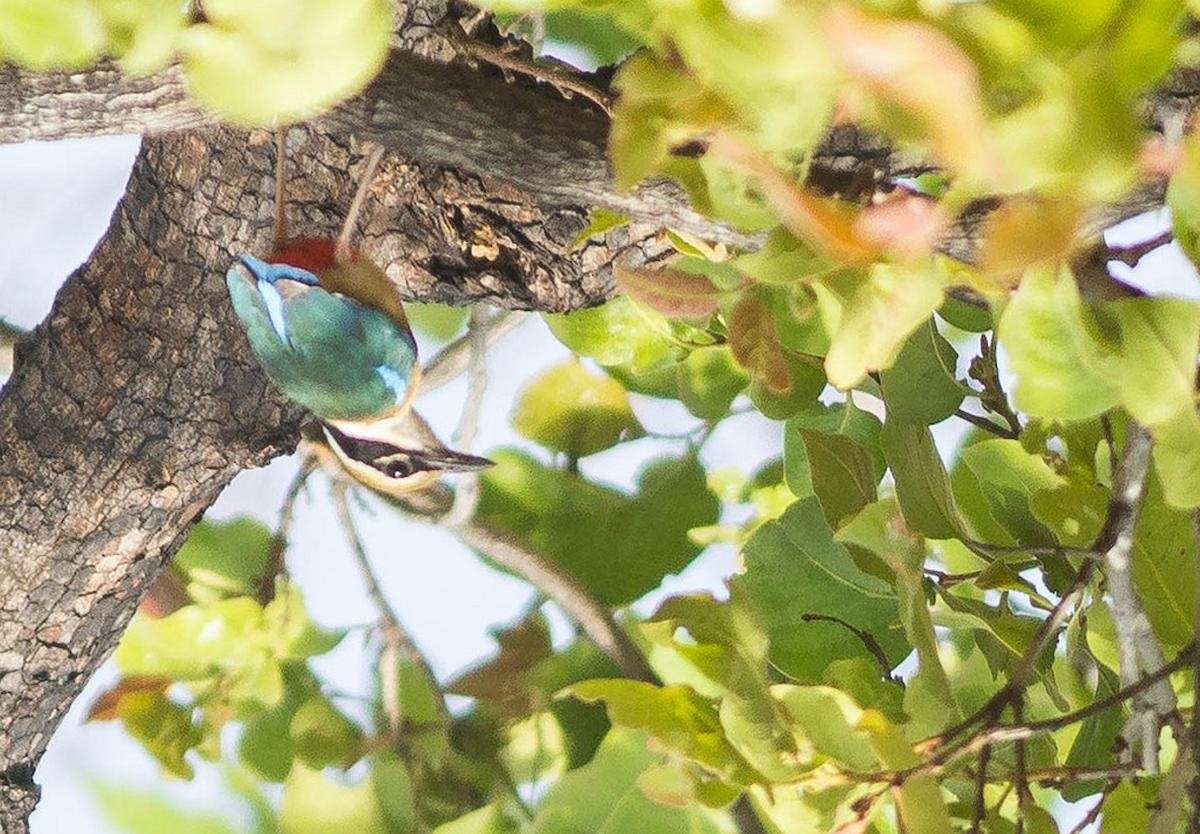pitta: (216, 151, 506, 520)
